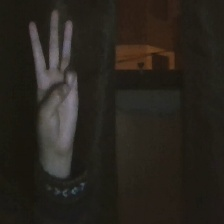W: (23, 2, 87, 161)
